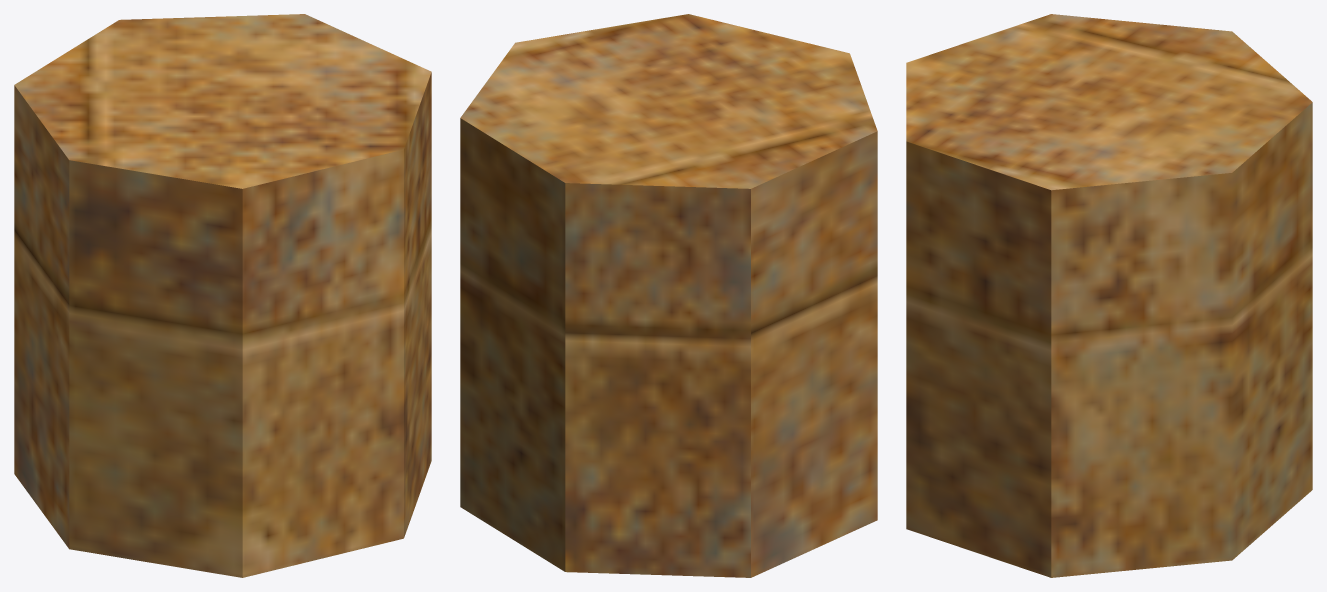
Rendered from Barrel02.fbx.
The picture shows the model from 3 angles, left to right: view 1: azimuth 30°, elevation 25°; view 2: azimuth 150°, elevation 25°; view 3: azimuth 270°, elevation 25°; orthographic projection.
Visible parts, largest first — view 1: Cylinder.001; view 2: Cylinder.001; view 3: Cylinder.001.
Boxes of the visible parts, x1=… form: Cylinder.001: x1=14, y1=14, x2=431, y2=577; Cylinder.001: x1=460, y1=14, x2=877, y2=577; Cylinder.001: x1=906, y1=14, x2=1312, y2=577.
Bounding box in the file's own units: 195 × 200 × 190.
